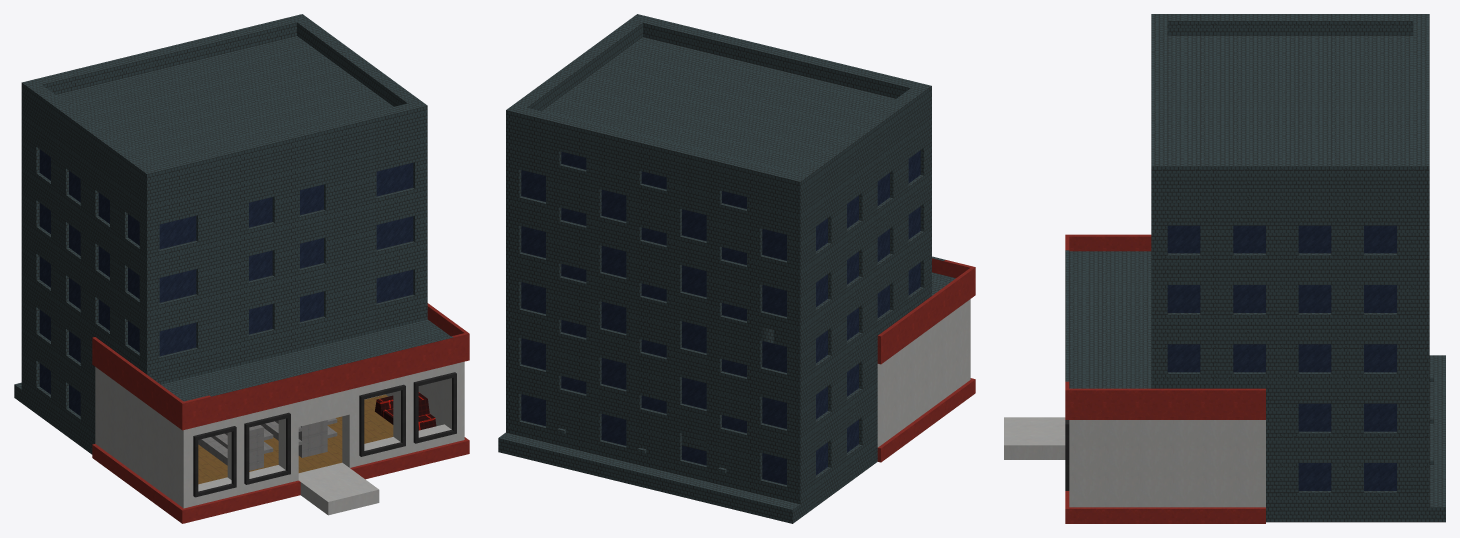
The model's file is shop ovoshi.fbx.
3 renders of one model, left to right at view 1: azimuth 30°, elevation 25°; view 2: azimuth 150°, elevation 25°; view 3: azimuth 270°, elevation 25°, orthographic. The views are drawn at different scales.
Visible parts, largest first — view 1: магаз овощи; view 2: магаз овощи; view 3: магаз овощи.
Part boxes in pixels (bbox=[...]): магаз овощи: bbox=[14, 14, 469, 523]; магаз овощи: bbox=[498, 14, 975, 523]; магаз овощи: bbox=[1004, 14, 1445, 523].
Size of the model in its own units: 2250 by 2400 by 2700.
